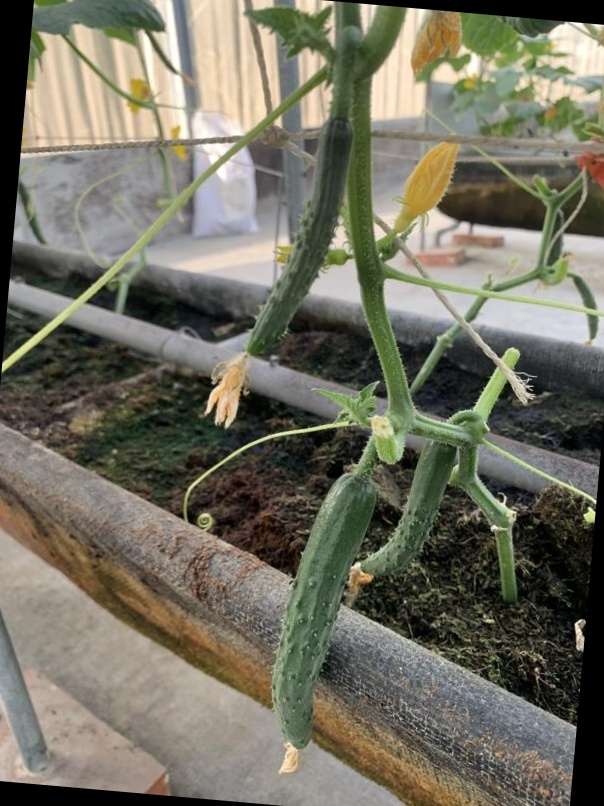bud: (395, 142, 463, 229)
growth: (249, 113, 354, 355), (356, 431, 458, 578)
mature: (270, 478, 375, 750)
